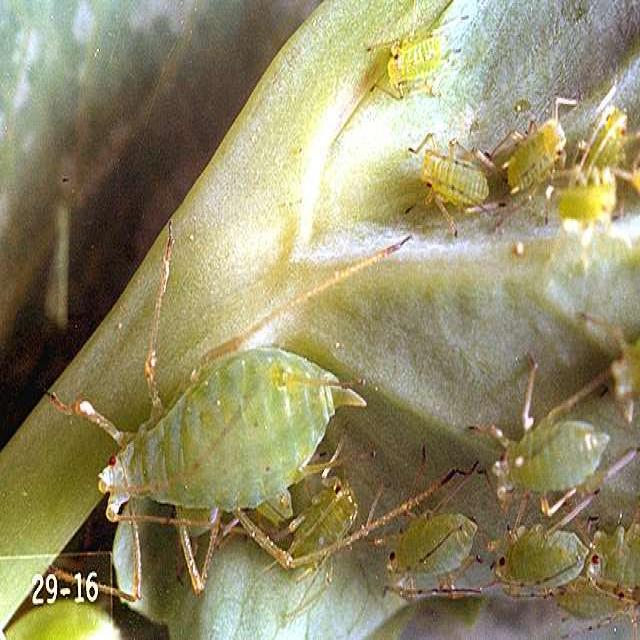Aphid-Grown-: (81, 330, 360, 562), (482, 398, 612, 510), (369, 487, 479, 599), (399, 120, 501, 232), (496, 75, 567, 208), (280, 472, 367, 580), (482, 516, 588, 602), (375, 12, 463, 105)
